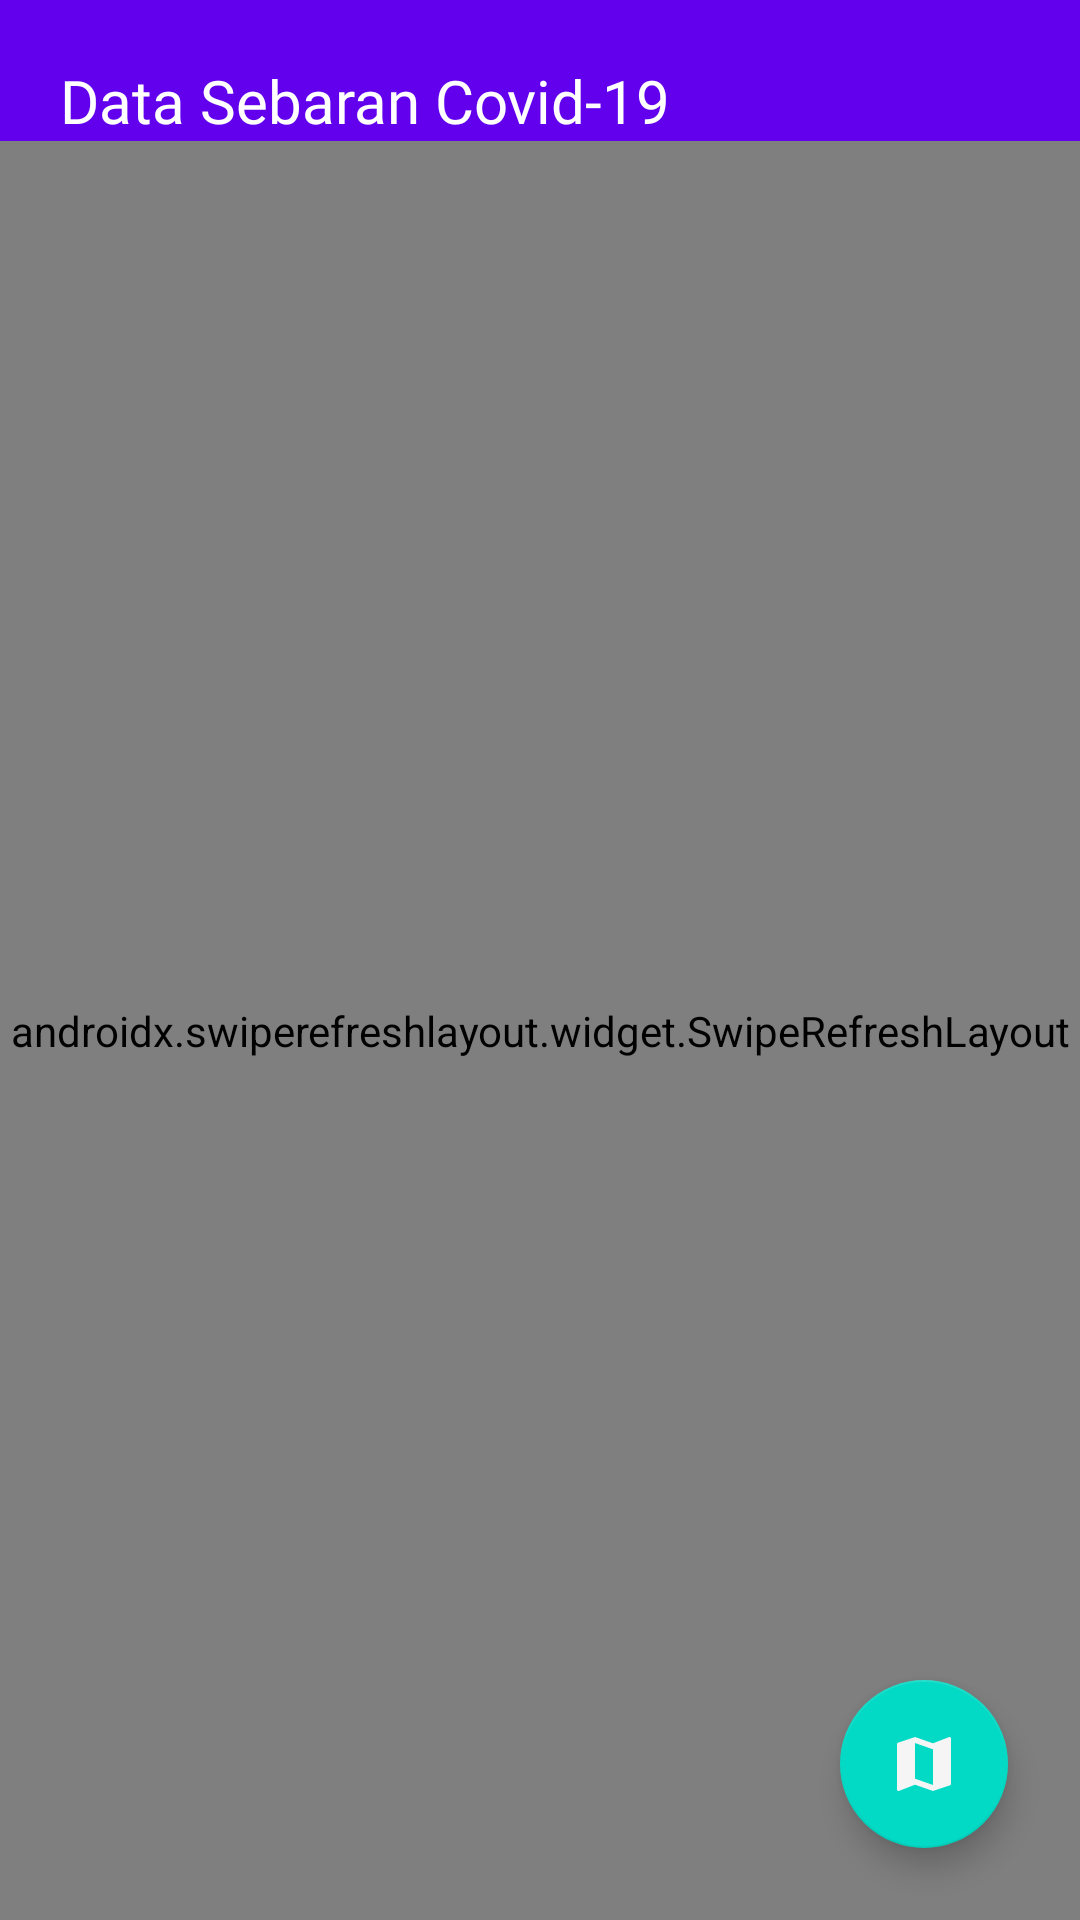

Named icons in this screenshot (1080×1920) and their centers, (x,y):
map: (924,1764)
